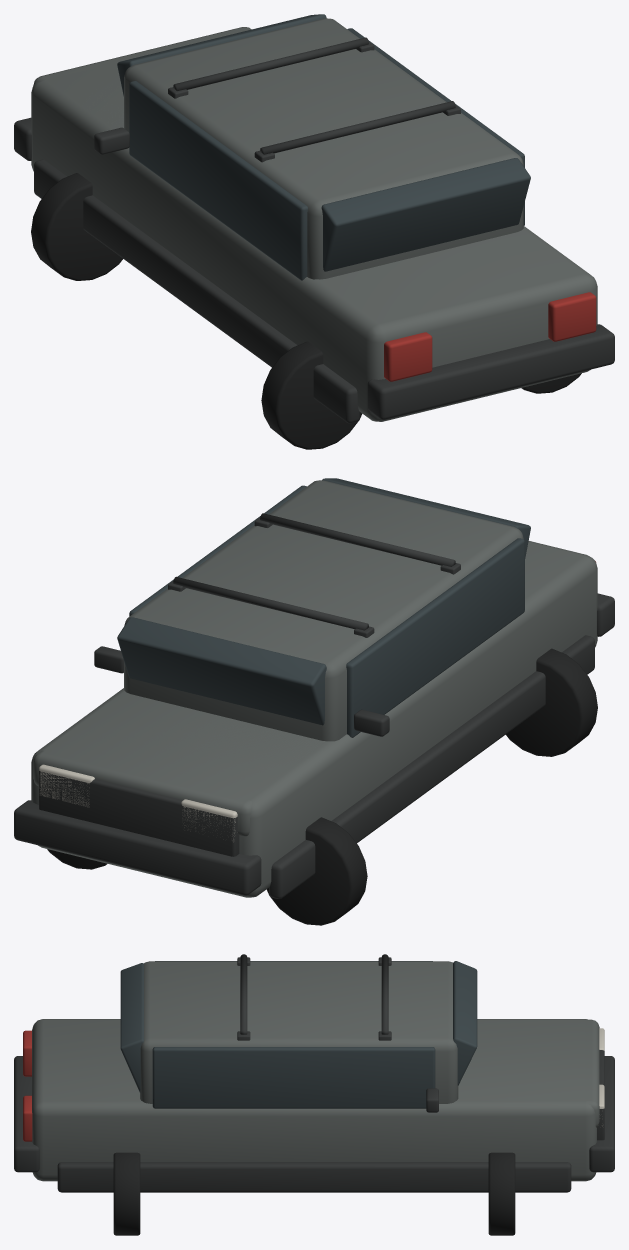
File: estate_car_v1.glb
The picture shows the model from 3 angles, top to bottom: view 1: azimuth 30°, elevation 25°; view 2: azimuth 150°, elevation 25°; view 3: azimuth 270°, elevation 25°; orthographic projection. The views are drawn at different scales.
Visible parts, largest first — view 1: EstateCar; view 2: EstateCar; view 3: EstateCar.
Part boxes in pixels (x1,y1,x2,y2): EstateCar: [14, 14, 614, 449]; EstateCar: [14, 478, 614, 925]; EstateCar: [14, 954, 614, 1235].
Size of the model in its own units: 2.36 by 1.67 by 4.68.
